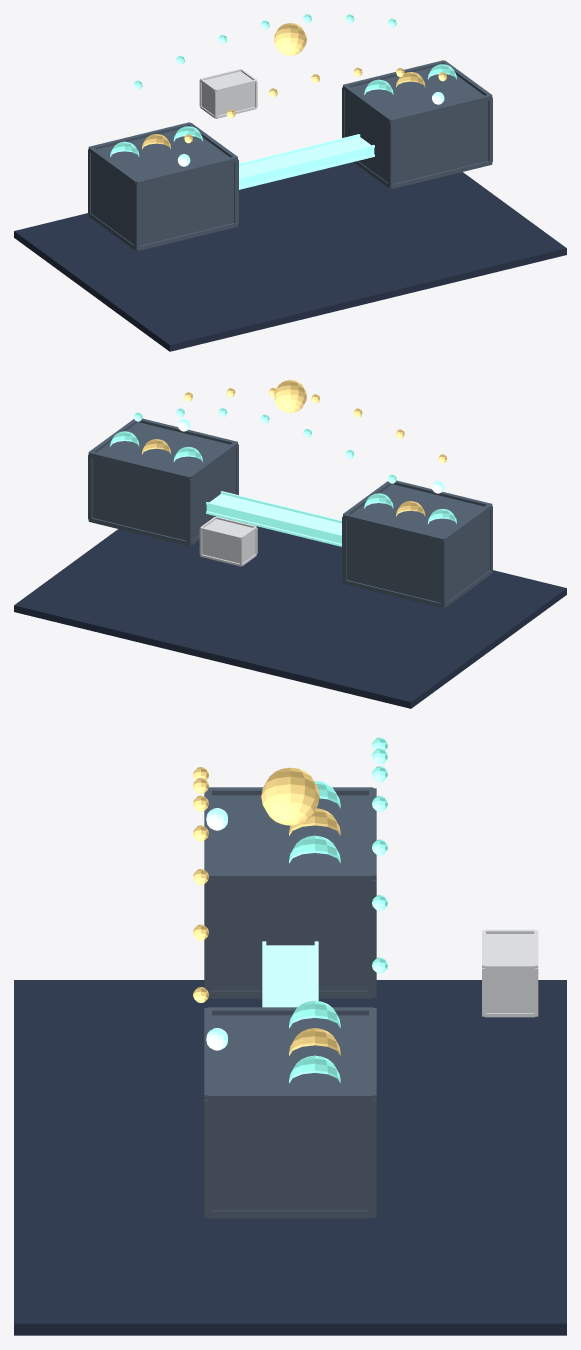
The model's file is cni-pod-network.glb.
The picture shows the model from 3 angles, top to bottom: view 1: azimuth 30°, elevation 25°; view 2: azimuth 150°, elevation 25°; view 3: azimuth 270°, elevation 25°; orthographic projection. The views are drawn at different scales.
Visible parts, largest first — view 1: net-floor, node-0, node-1, cni-bridge, coredns, cluster-ip; view 2: net-floor, node-0, node-1, cni-bridge, coredns, cluster-ip; view 3: net-floor, node-1, node-0, coredns, cni-bridge, cluster-ip, pod-1-2, pod-0-2, pod-1-0, pod-1-1.
Part boxes in pixels (box(x1,y1,x2,y2)): net-floor: box(14, 162, 566, 351); node-0: box(88, 122, 238, 251); node-1: box(342, 60, 492, 189); cni-bridge: box(239, 134, 374, 189); coredns: box(199, 68, 257, 118); cluster-ip: box(274, 23, 306, 55); net-floor: box(14, 526, 566, 708); node-0: box(342, 480, 492, 608); node-1: box(88, 418, 238, 546); cni-bridge: box(206, 491, 341, 546); coredns: box(199, 516, 257, 566); cluster-ip: box(274, 380, 306, 412); net-floor: box(14, 980, 566, 1335); node-1: box(204, 1007, 376, 1218); node-0: box(204, 787, 376, 998); coredns: box(482, 929, 538, 1017); cni-bridge: box(262, 941, 318, 1007); cluster-ip: box(261, 767, 319, 825); pod-1-2: box(289, 1055, 340, 1083); pod-0-2: box(289, 835, 340, 863); pod-1-0: box(289, 1000, 340, 1028); pod-1-1: box(289, 1028, 340, 1055).
Size of what is drawn, in the model's own units: 5 by 2.67 by 3.4.
